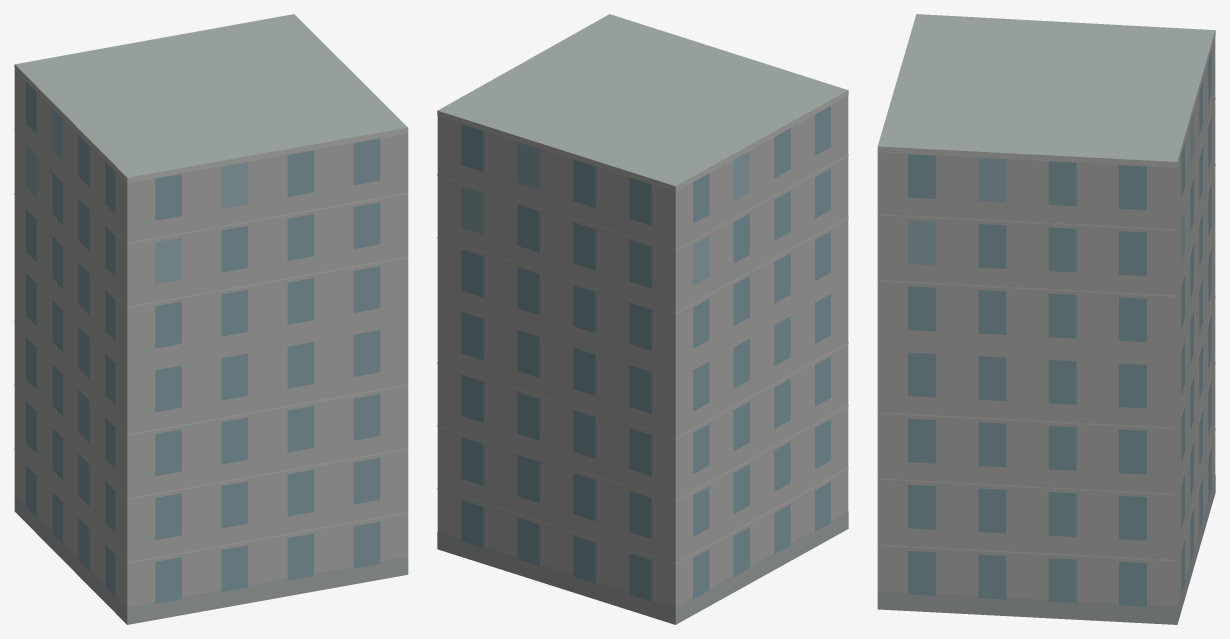
The model's file is survey-upis-32827706.glb.
The picture shows the model from 3 angles, left to right: view 1: azimuth 30°, elevation 25°; view 2: azimuth 150°, elevation 25°; view 3: azimuth 270°, elevation 25°; orthographic projection. The views are drawn at different scales.
Visible parts, largest first — view 1: survey-upis-32827706.tmp; view 2: survey-upis-32827706.tmp; view 3: survey-upis-32827706.tmp.
Part boxes in pixels (bbox=[...]): survey-upis-32827706.tmp: bbox=[14, 14, 408, 624]; survey-upis-32827706.tmp: bbox=[437, 14, 848, 624]; survey-upis-32827706.tmp: bbox=[877, 14, 1215, 624].
Size of the model in its own units: 13.32 by 19.4 by 12.86.
